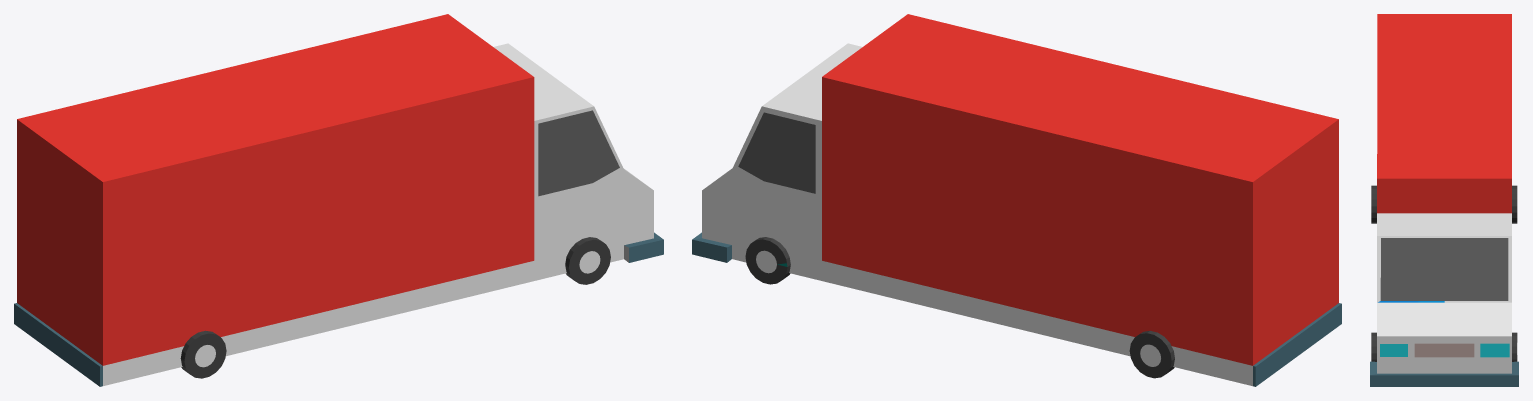
The model's file is car_1_2.dae.
3 views of the same model, side by side, from view 1: azimuth 30°, elevation 25°; view 2: azimuth 150°, elevation 25°; view 3: azimuth 270°, elevation 25° (orthographic). The views are drawn at different scales.
Visible parts, largest first — view 1: Car_08.008; view 2: Car_08.008; view 3: Car_08.008.
Part boxes in pixels (bbox=[...]): Car_08.008: bbox=[14, 14, 663, 386]; Car_08.008: bbox=[692, 14, 1341, 386]; Car_08.008: bbox=[1370, 14, 1518, 386].
Bounding box in the file's own units: 8.09 × 2.38 × 3.
1 material, 1 textured.
